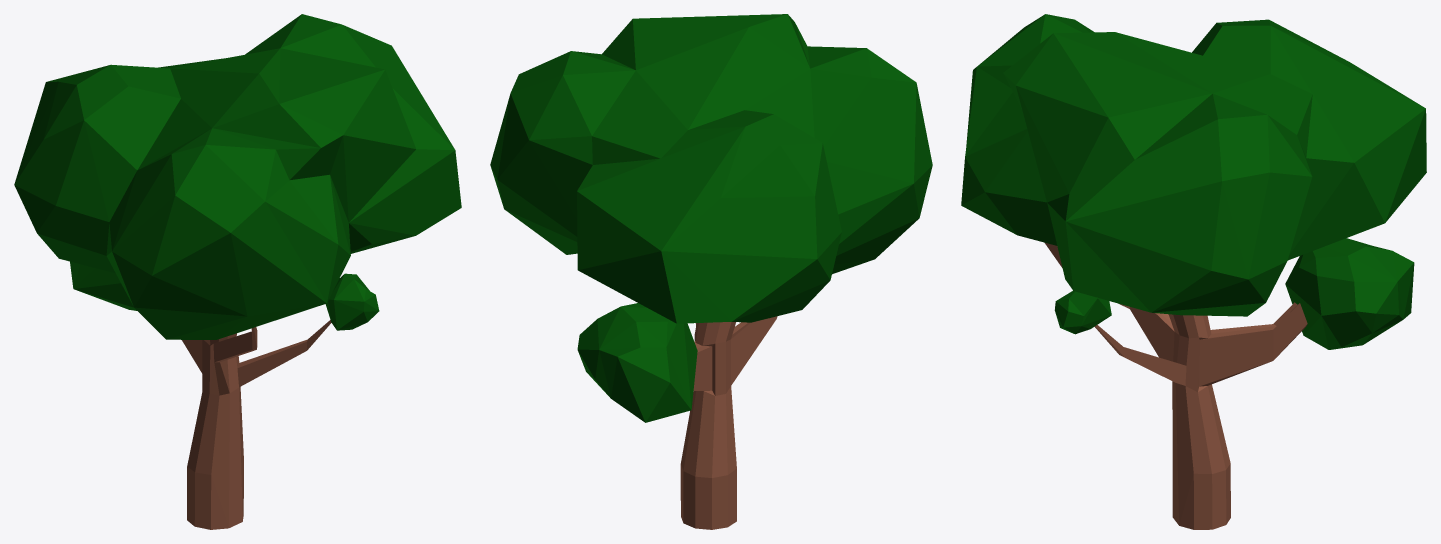
The model's file is tree3.fbx.
3 renders of one model, left to right at view 1: azimuth 30°, elevation 25°; view 2: azimuth 150°, elevation 25°; view 3: azimuth 270°, elevation 25°, orthographic. The views are drawn at different scales.
Visible parts, largest first — view 1: Leaves, Trunk; view 2: Leaves, Trunk; view 3: Leaves, Trunk.
Part boxes in pixels (box(x1,y1,x2,y2)): Leaves: box(14, 14, 461, 339); Trunk: box(182, 320, 331, 529); Leaves: box(490, 14, 932, 422); Trunk: box(680, 316, 777, 529); Leaves: box(961, 14, 1426, 349); Trunk: box(1045, 243, 1307, 529).
Size of the model in its own units: 5.63 by 6.96 by 6.04.
